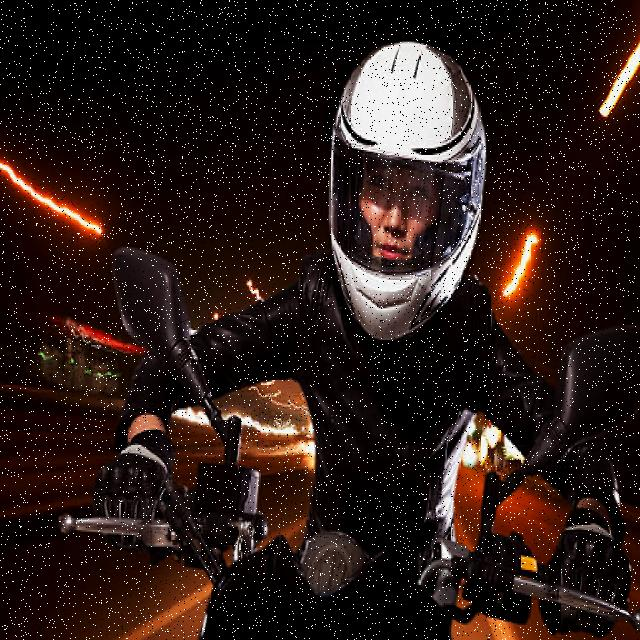not_triplets: (95, 0, 640, 640)
with-helmet: (322, 33, 492, 340)
